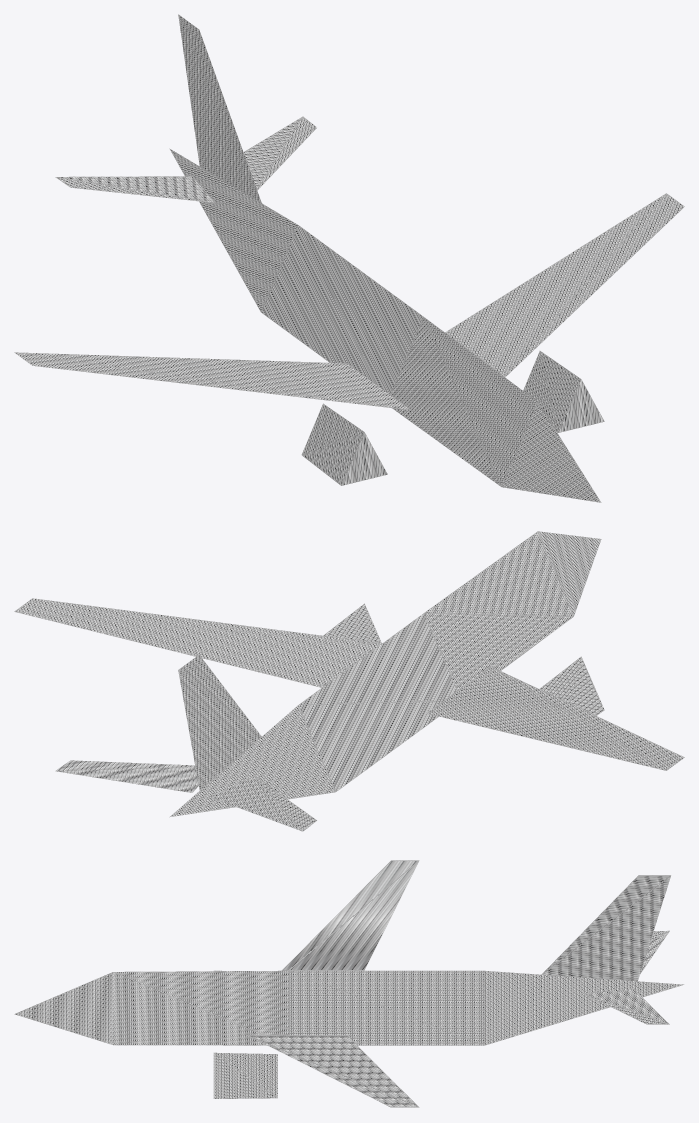
Rendered from SBAI_Airbus_A220-300_MSFS_LOD1.gltf.
3 views of the same model, one above another, from view 1: azimuth 30°, elevation 25°; view 2: azimuth 150°, elevation 25°; view 3: azimuth 270°, elevation 25° (orthographic). The views are drawn at different scales.
Visible parts, largest first — view 1: node1; view 2: node1; view 3: node1.
Part boxes in pixels (<box>): node1: <box>14,14,684,502</box>; node1: <box>14,531,684,831</box>; node1: <box>14,860,683,1107</box>.
Size of the model in its own units: 33.09 by 10.85 by 37.96.
